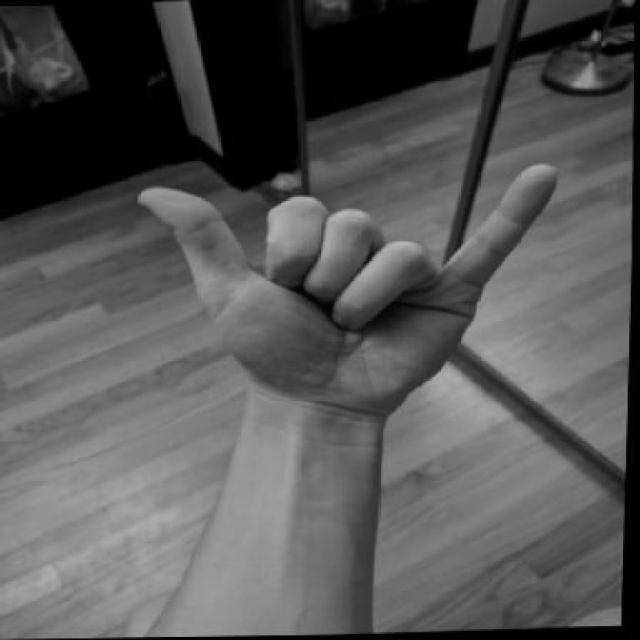Y: (127, 159, 571, 430)
